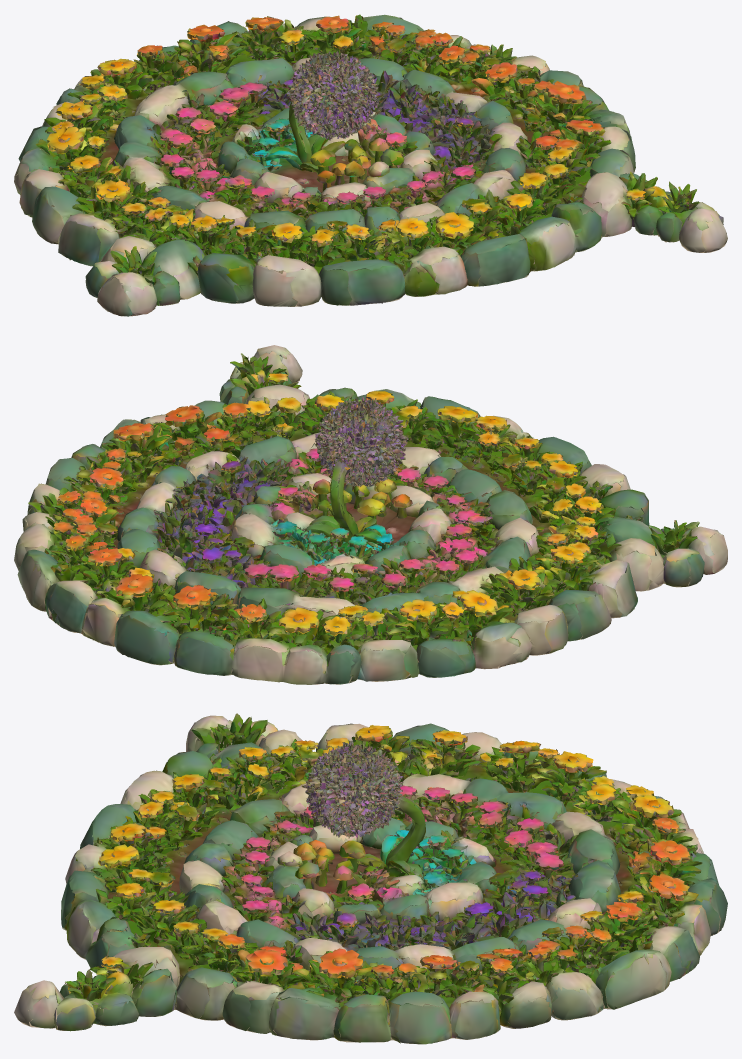
Rendered from spiral-garden.glb.
3 views of the same model, one above another, from view 1: azimuth 30°, elevation 25°; view 2: azimuth 150°, elevation 25°; view 3: azimuth 270°, elevation 25° (orthographic). The views are drawn at different scales.
Parts seen in each view (by area): view 1: Mesh_0; view 2: Mesh_0; view 3: Mesh_0.
Part boxes in pixels (x1,y1,x2,y2): Mesh_0: [14, 14, 727, 316]; Mesh_0: [14, 345, 727, 684]; Mesh_0: [14, 713, 727, 1044].
Size of the model in its own units: 1.9 by 0.4461 by 1.9.
Materials: 1 (1 with a texture image).
